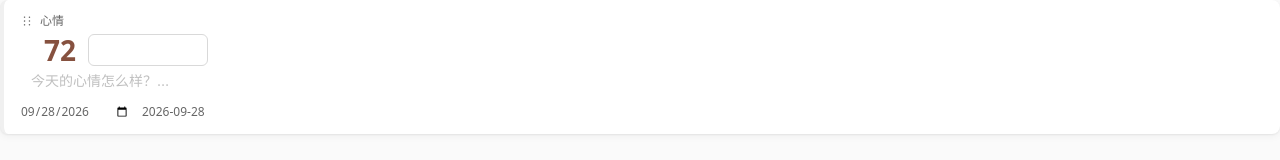
Test: MoodCard nullable diary mood › 清空已填数值保存 null，移除分数色阶及动画
Check: the element with class "mood-score-roll" is shown, box [44,34,76,66]
Clear the number field. click: (148, 50)
box: [89,35,207,65]
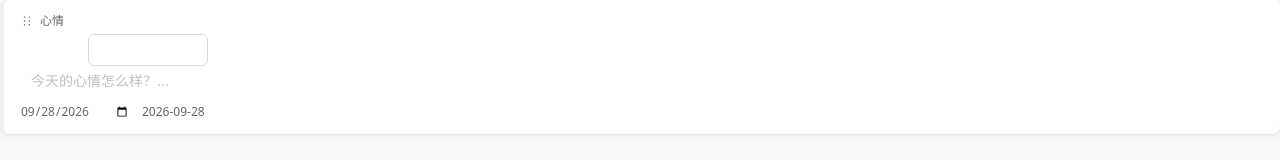
Check: the element with class "mood-score-roll" is gone
